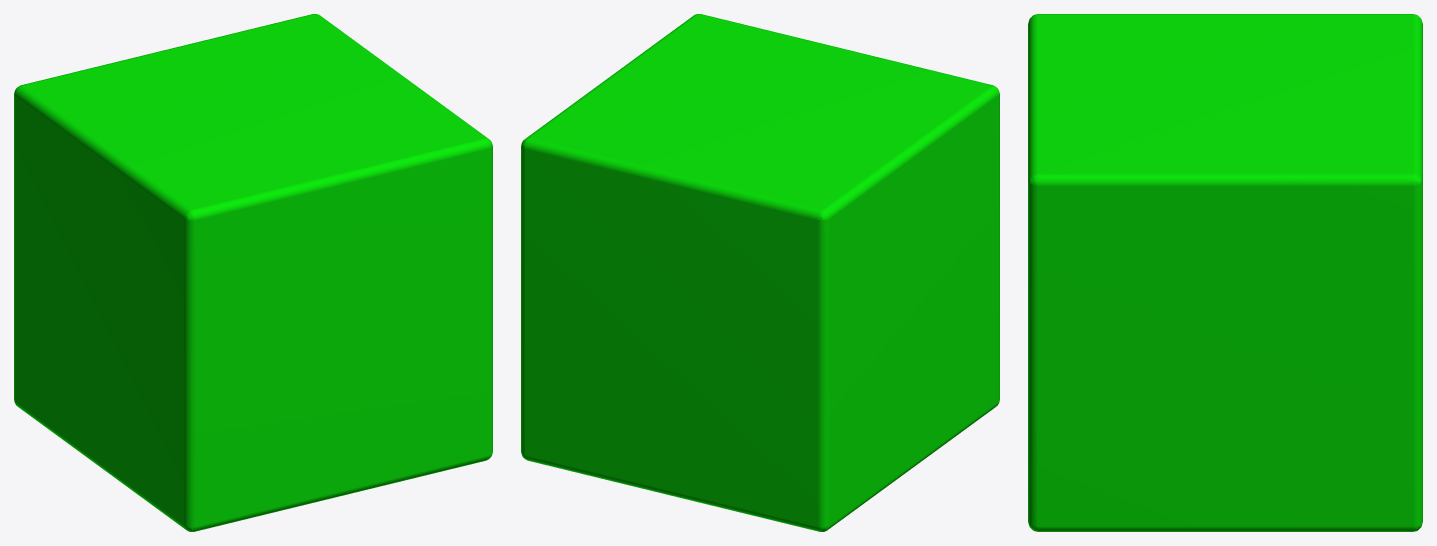
3 renders of one model, left to right at view 1: azimuth 30°, elevation 25°; view 2: azimuth 150°, elevation 25°; view 3: azimuth 270°, elevation 25°, orthographic. The views are drawn at different scales.
Visible parts, largest first — view 1: pCube1; view 2: pCube1; view 3: pCube1.
Boxes of the visible parts, x1,y1,x2,y2 form: pCube1: [14, 14, 492, 531]; pCube1: [521, 14, 999, 531]; pCube1: [1028, 14, 1422, 531].
Size of the model in its own units: 1 by 1 by 1.
